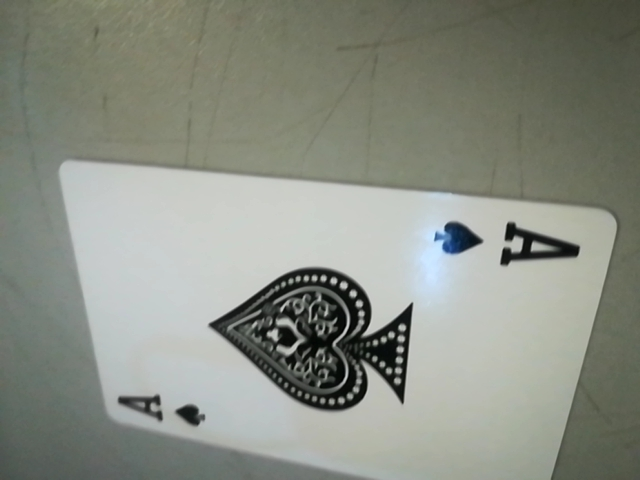ht a: (433, 210, 599, 273), (100, 389, 231, 441)
